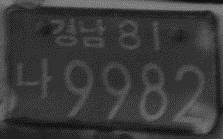1: (149, 15, 163, 54)
2: (170, 62, 208, 128)
8: (137, 59, 170, 124), (116, 17, 142, 52)
9: (61, 57, 97, 122), (99, 59, 133, 119)
경남_O: (50, 14, 106, 51)
나: (13, 52, 53, 101)
